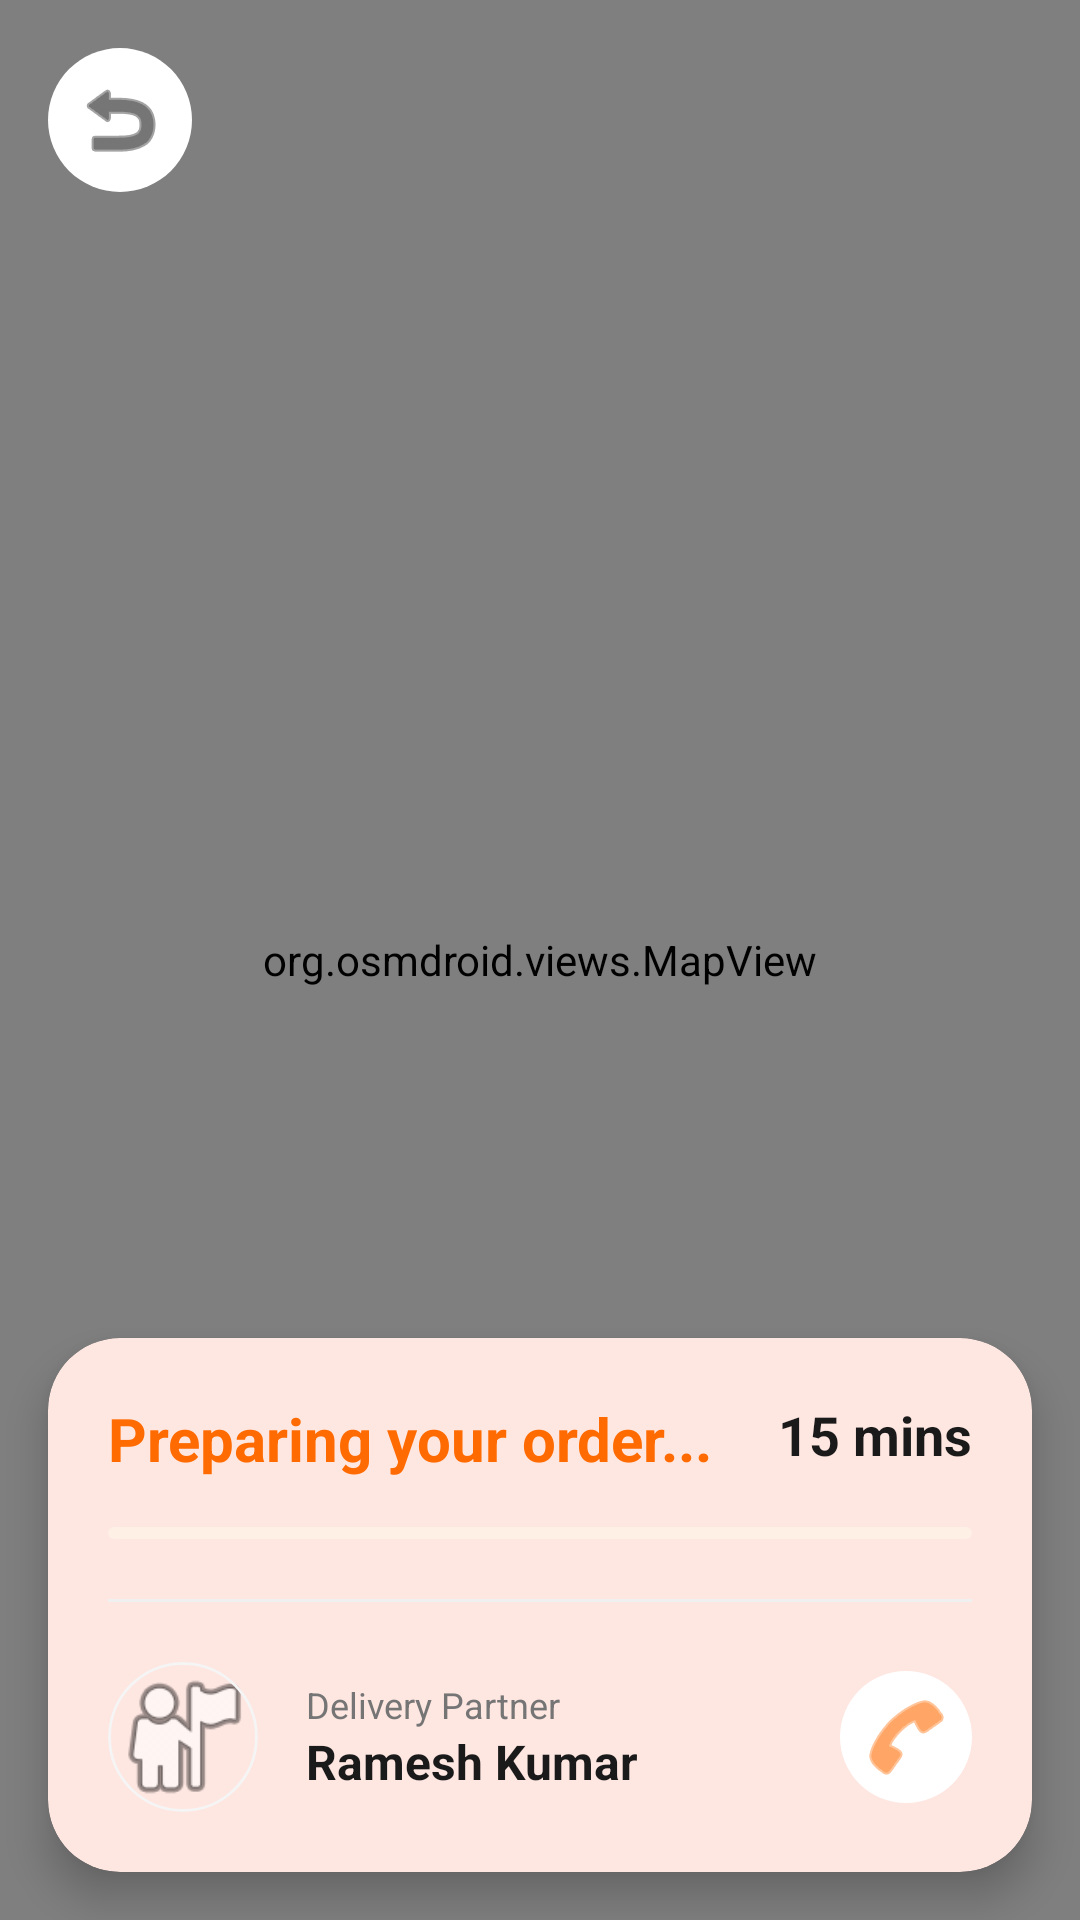

Locate icon controls on the screen. Image size 1080w x 1920h, boxes as BBox(x1, y1, x2, y2).
call: BBox(840, 1671, 972, 1803)
revert: BBox(48, 48, 192, 192)
